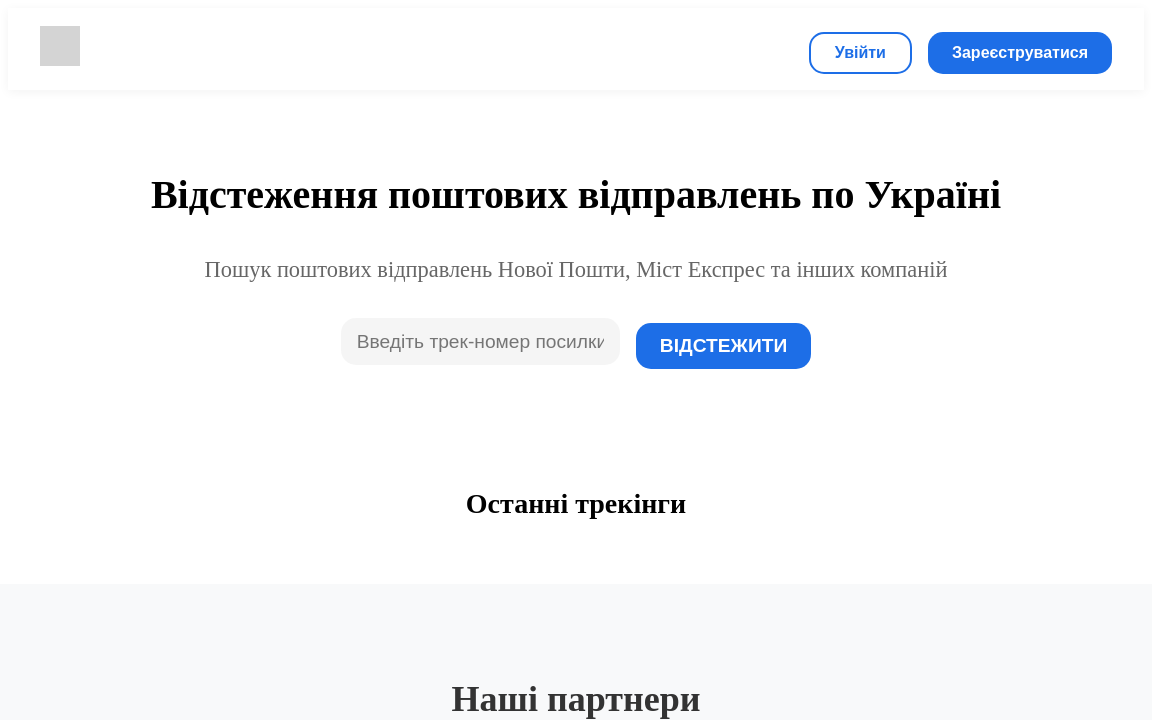
Scenario: Track parcel flow › tracks parcel and shows details
Type "AA123456789UA" into the field with placeholder "Введіть трек-номер посилки". click: (481, 342)
box: left=341, top=318, right=620, bottom=366
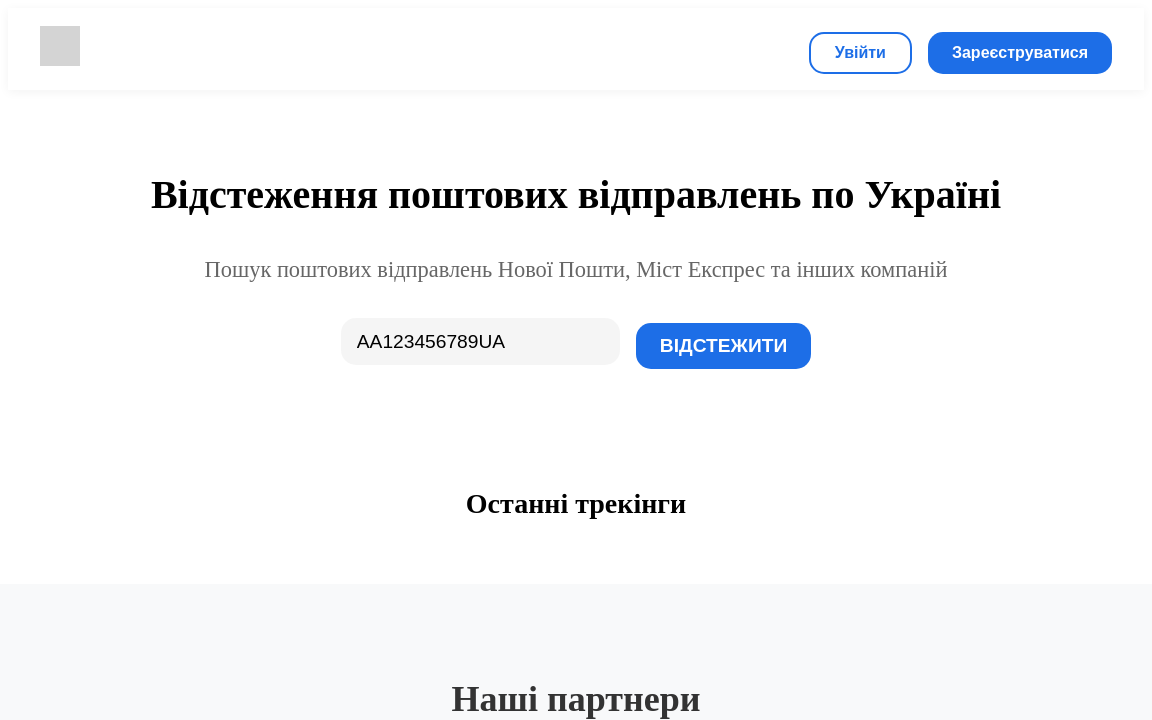
Click the button "ВІДСТЕЖИТИ". click: (724, 346)
box: left=636, top=323, right=811, bottom=369
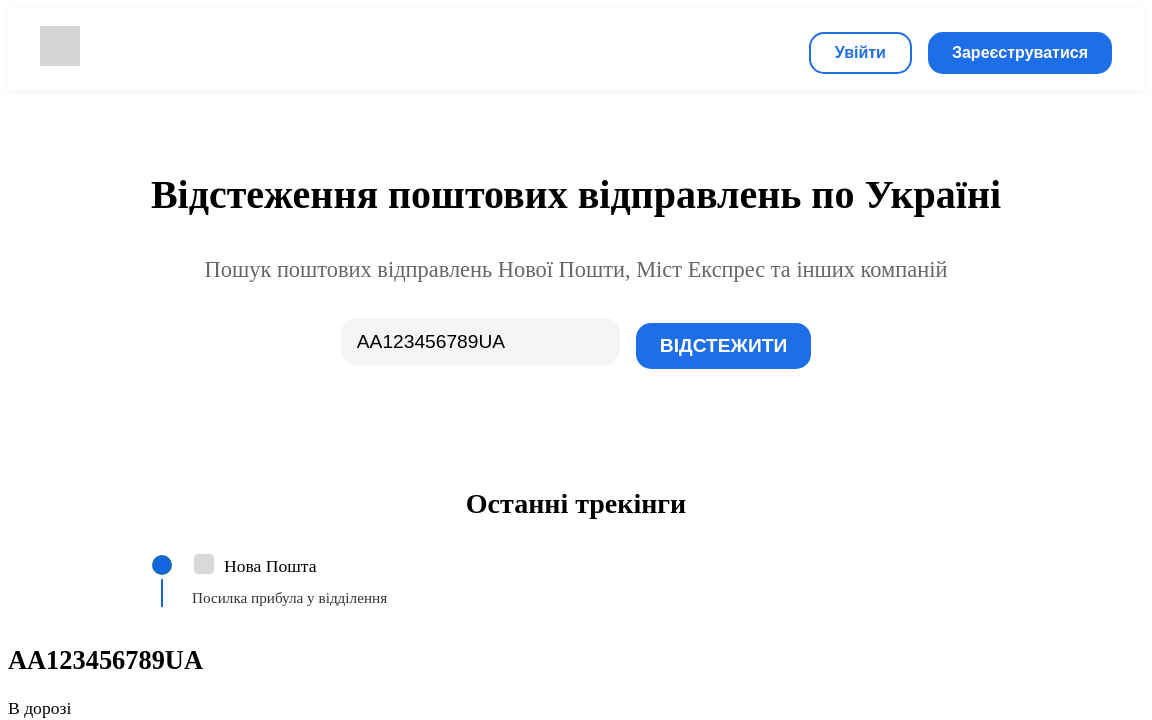
Expected: the heading "AA123456789UA" is shown, left=8, top=645, right=203, bottom=675
Expected: the text "В дорозі" is shown, left=8, top=698, right=71, bottom=718
Expected: the text "Посилка прибула у відділення" is shown, left=192, top=589, right=387, bottom=606
